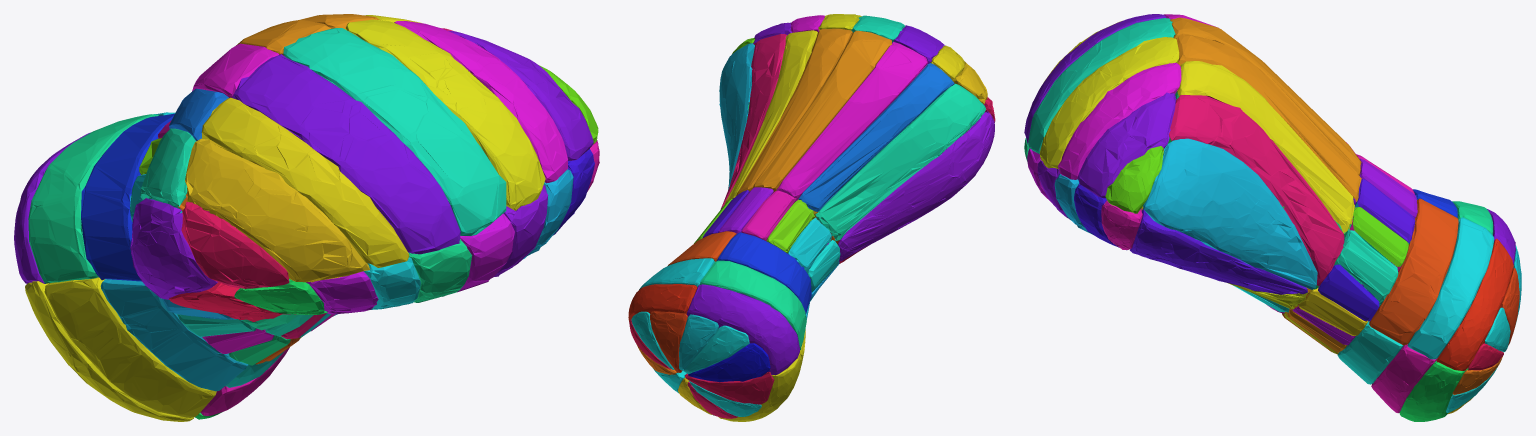
Rendered from uterus-female-upenn.glb.
3 views of the same model, side by side, from view 1: azimuth 30°, elevation 25°; view 2: azimuth 150°, elevation 25°; view 3: azimuth 270°, elevation 25° (orthographic). The views are drawn at different scales.
Parts seen in each view (by area): view 1: world; view 2: world; view 3: world.
Part boxes in pixels (left/top/right/bottom): world: left=14, top=14, right=599, bottom=421; world: left=628, top=14, right=995, bottom=421; world: left=1024, top=14, right=1521, bottom=421.
Bounding box in the file's own units: 0.0422 × 0.0483 × 0.0584.
